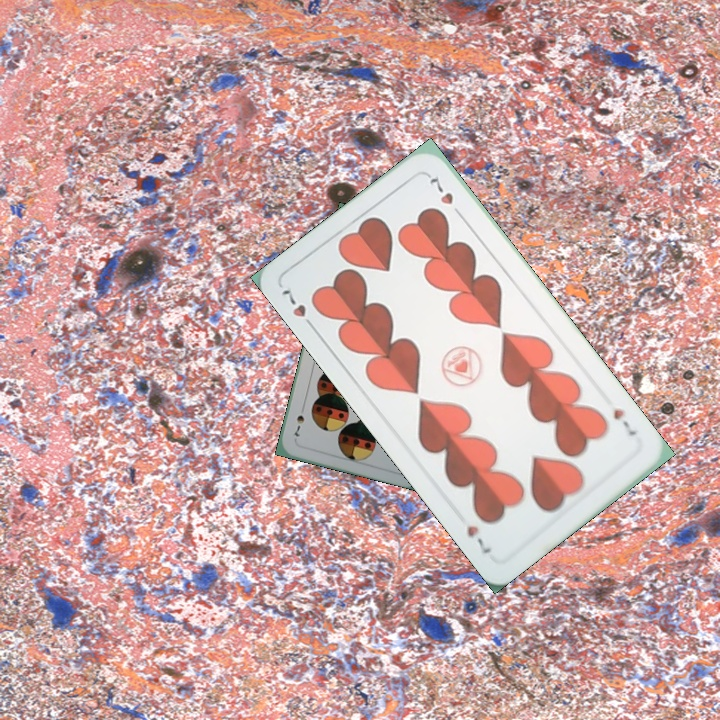H7: (277, 285, 319, 334), (609, 405, 639, 439)
